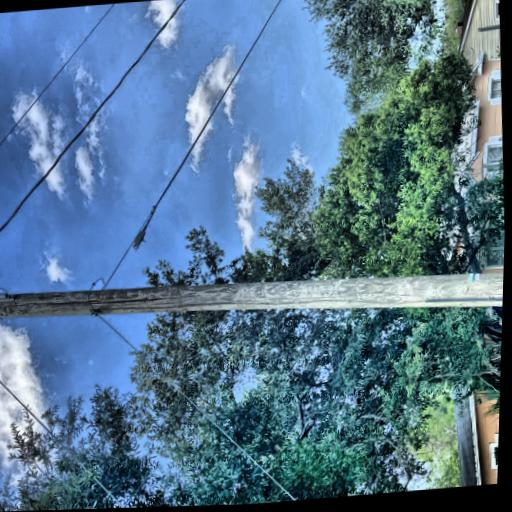pole: (11, 3, 136, 511)
street light: (80, 0, 228, 152)
